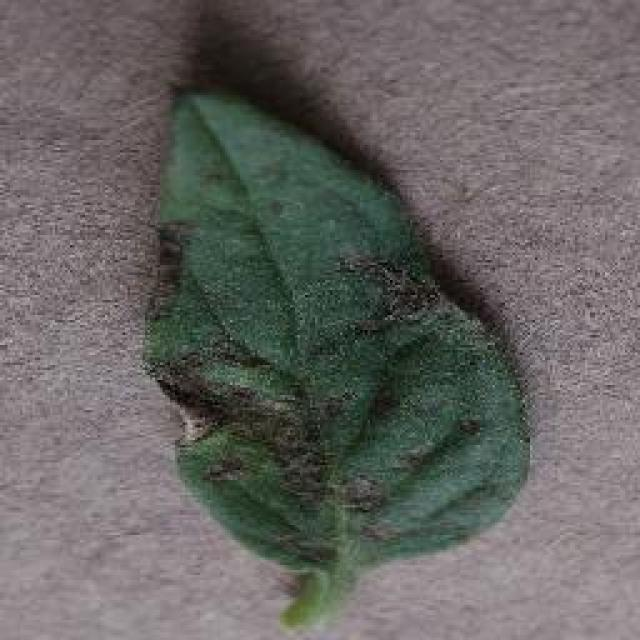Tomato_Early_Blight: (124, 75, 545, 588)
